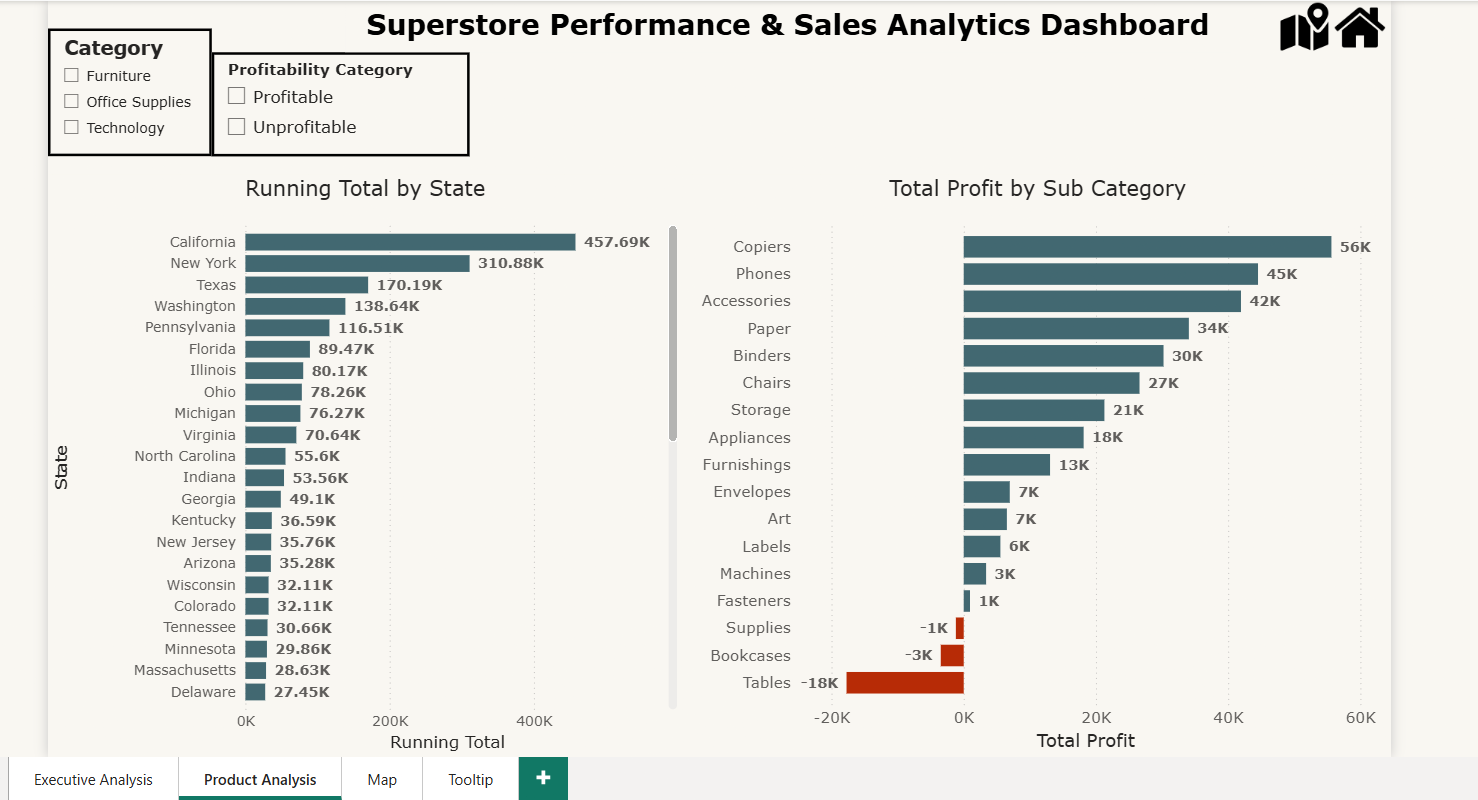

This screenshot's page, from the dashboard's own definition file:
{"tool":"powerbi","page":{"name":"Product Analysis","canvas":[1280,720],"ordinal":1},"visuals":[{"type":"image","box":[1219.1,1.2,60.7,47.6],"z":0},{"type":"slicer","fields":{"Values":["Orders.Category"]},"box":[0,26.2,156,121.4],"z":1000},{"type":"clusteredBarChart","fields":{"Category":["Orders.Sub-Category"],"Y":["Matrix.total_profit"]},"box":[604.3,165.7,675.7,554.3],"z":2000},{"type":"slicer","fields":{"Values":["Orders.profitability_category"]},"box":[156,48.8,245.2,98.8],"z":3000},{"type":"clusteredBarChart","fields":{"Category":["Orders.Country/Region Hierarchy.Country/Region","Orders.Country/Region Hierarchy.State","Orders.Country/Region Hierarchy.City"],"Y":["Matrix.running_total"]},"box":[0,165.7,604.3,554.3],"z":4000},{"type":"image","box":[1173.8,0,45.2,48.8],"z":5000},{"type":"textbox","box":[282.9,0,842.9,48.6],"z":6000}]}

Visuals, with their boxes on the page's 1280x720 design canvas (x1, y1, x2, y2). These are canvas units, not pixel positions in the 1478x800 screenshot, which may show the page scaled, cropped or inside an application window:
image: (x1=1219, y1=1, x2=1280, y2=49)
slicer - Orders.Category: (x1=0, y1=26, x2=156, y2=148)
clusteredBarChart - Orders.Sub-Category x Matrix.total_profit: (x1=604, y1=166, x2=1280, y2=720)
slicer - Orders.profitability_category: (x1=156, y1=49, x2=401, y2=148)
clusteredBarChart - Orders.Country/Region Hierarchy.Country/Region x Orders.Country/Region Hierarchy.State: (x1=0, y1=166, x2=604, y2=720)
image: (x1=1174, y1=0, x2=1219, y2=49)
textbox: (x1=283, y1=0, x2=1126, y2=49)
